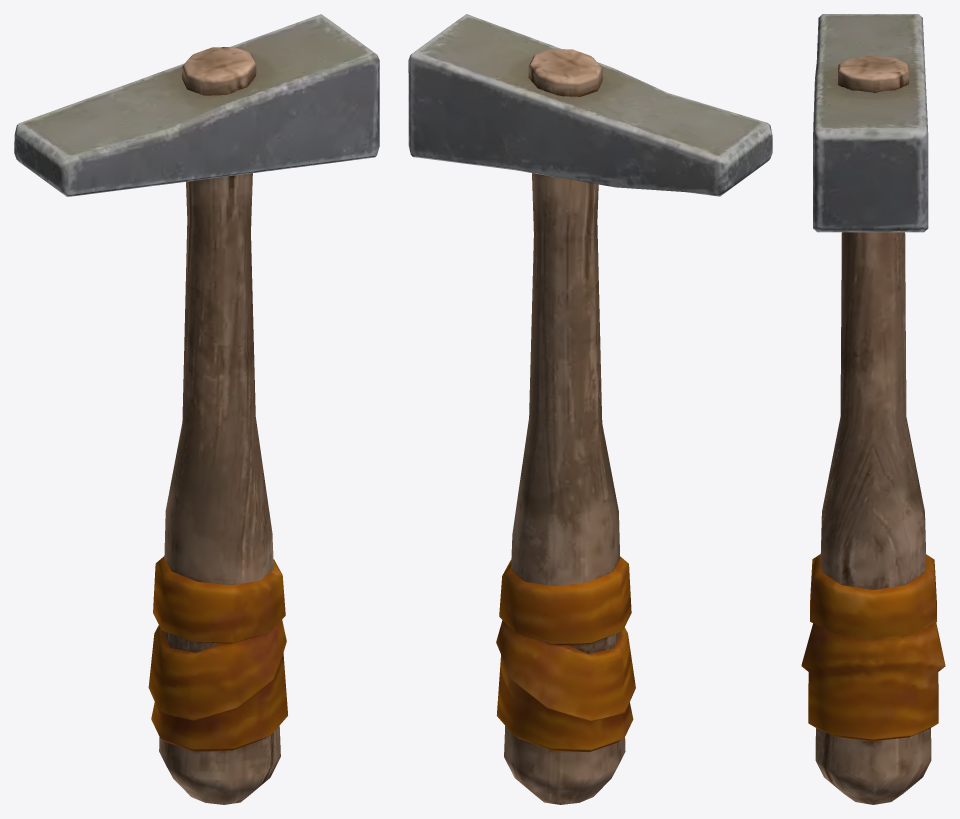
3 views of the same model, side by side, from view 1: azimuth 30°, elevation 25°; view 2: azimuth 150°, elevation 25°; view 3: azimuth 270°, elevation 25° (orthographic).
Parts seen in each view (by area): view 1: SM_Workshop_Tools_Hammer_LOD0; view 2: SM_Workshop_Tools_Hammer_LOD0; view 3: SM_Workshop_Tools_Hammer_LOD0.
Boxes of the visible parts, bbox=[...] form: SM_Workshop_Tools_Hammer_LOD0: bbox=[14, 14, 379, 804]; SM_Workshop_Tools_Hammer_LOD0: bbox=[408, 14, 772, 804]; SM_Workshop_Tools_Hammer_LOD0: bbox=[801, 14, 945, 804].
Bounding box in the file's own units: 0.176 × 0.392 × 0.0701.
1 material, 1 textured.
